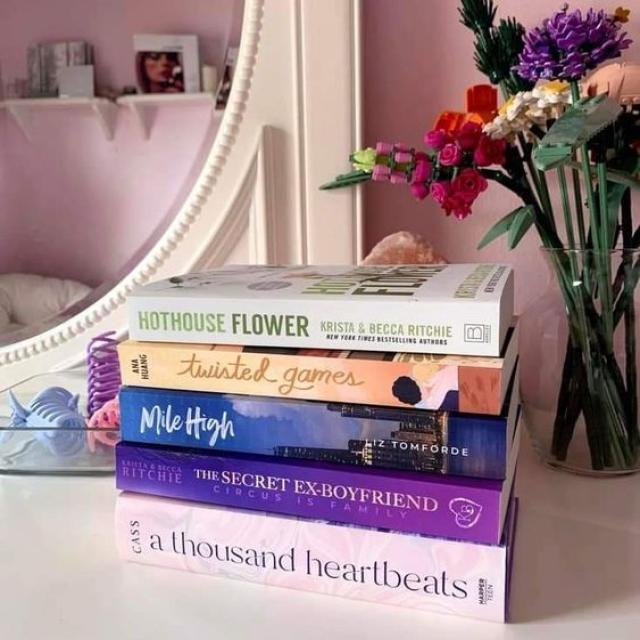book: (119, 497, 505, 622), (115, 443, 501, 545), (121, 390, 504, 477), (120, 349, 501, 408), (125, 297, 500, 354)
